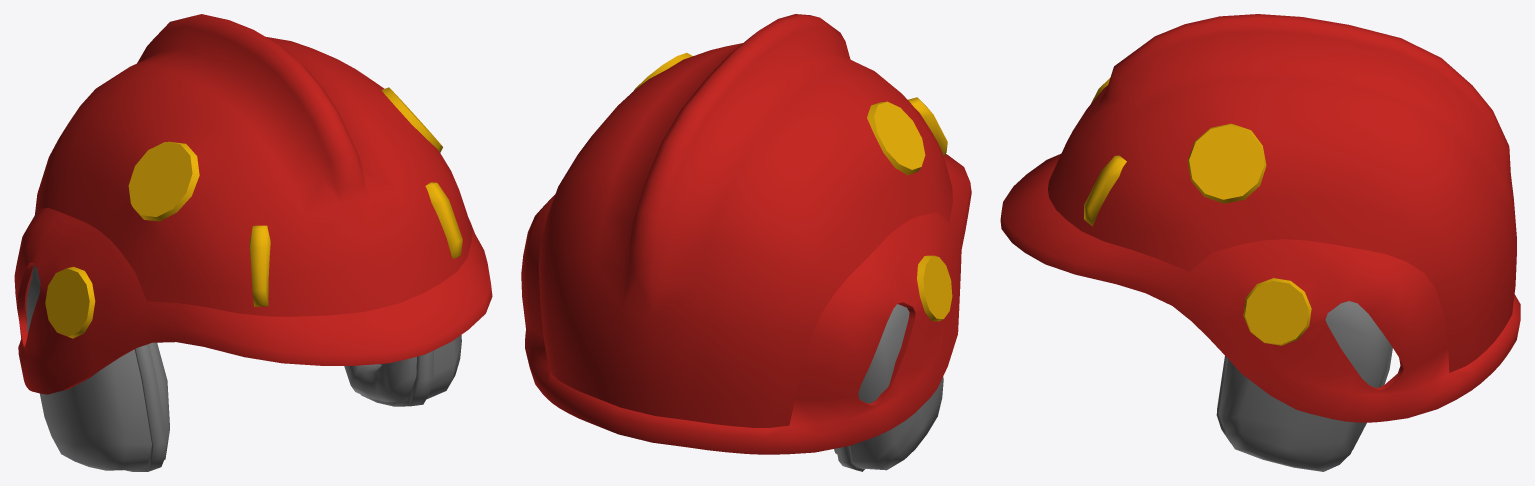
File: firefighter helmet.fbx
3 renders of one model, left to right at view 1: azimuth 30°, elevation 25°; view 2: azimuth 150°, elevation 25°; view 3: azimuth 270°, elevation 25°, orthographic. The views are drawn at different scales.
Visible parts, largest first — view 1: Vatrogasac kaciga; view 2: Vatrogasac kaciga; view 3: Vatrogasac kaciga.
Boxes of the visible parts, x1,y1,x2,y2 form: Vatrogasac kaciga: (14,14,492,471); Vatrogasac kaciga: (521,14,971,471); Vatrogasac kaciga: (1000,14,1520,471).
Size of the model in its own units: 38.72 by 36.9 by 44.92.
